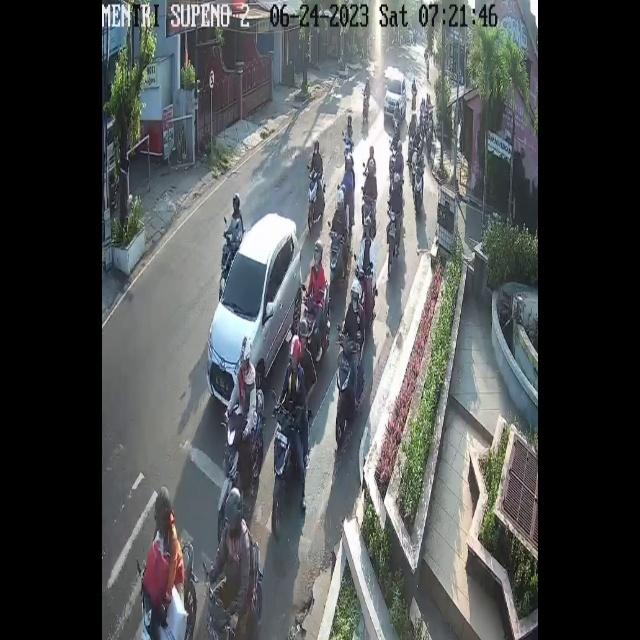bus: (219, 386, 267, 518), (139, 537, 197, 640), (204, 540, 260, 640), (274, 416, 308, 540), (336, 333, 366, 447), (302, 295, 328, 358), (328, 229, 352, 278), (308, 170, 325, 230), (218, 226, 236, 281), (387, 210, 400, 280), (414, 165, 426, 212), (424, 124, 434, 157), (360, 195, 376, 215), (342, 135, 356, 157), (352, 268, 371, 284), (361, 92, 371, 122), (389, 145, 397, 171), (411, 89, 418, 109), (420, 109, 428, 126)
motorcycle: (208, 213, 300, 406), (384, 76, 406, 120)
